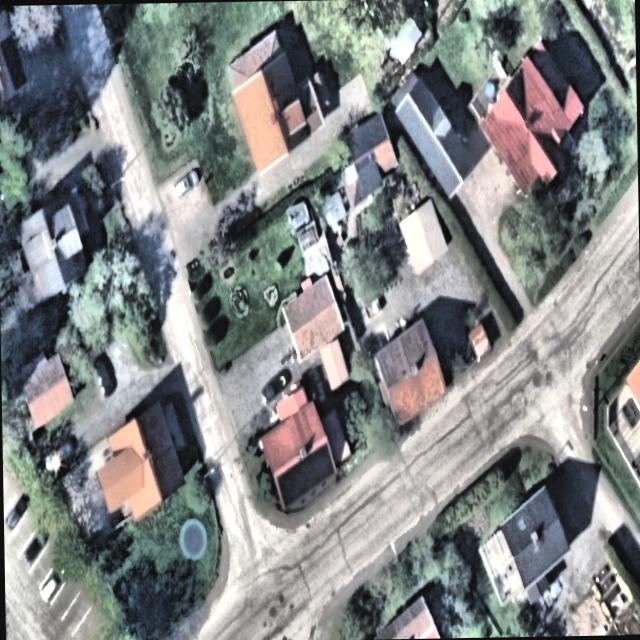roof_pv: (273, 438, 338, 506)
